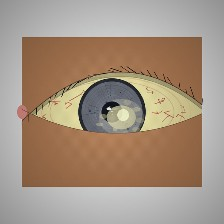corneal_ulcer: (98, 99, 145, 136)
